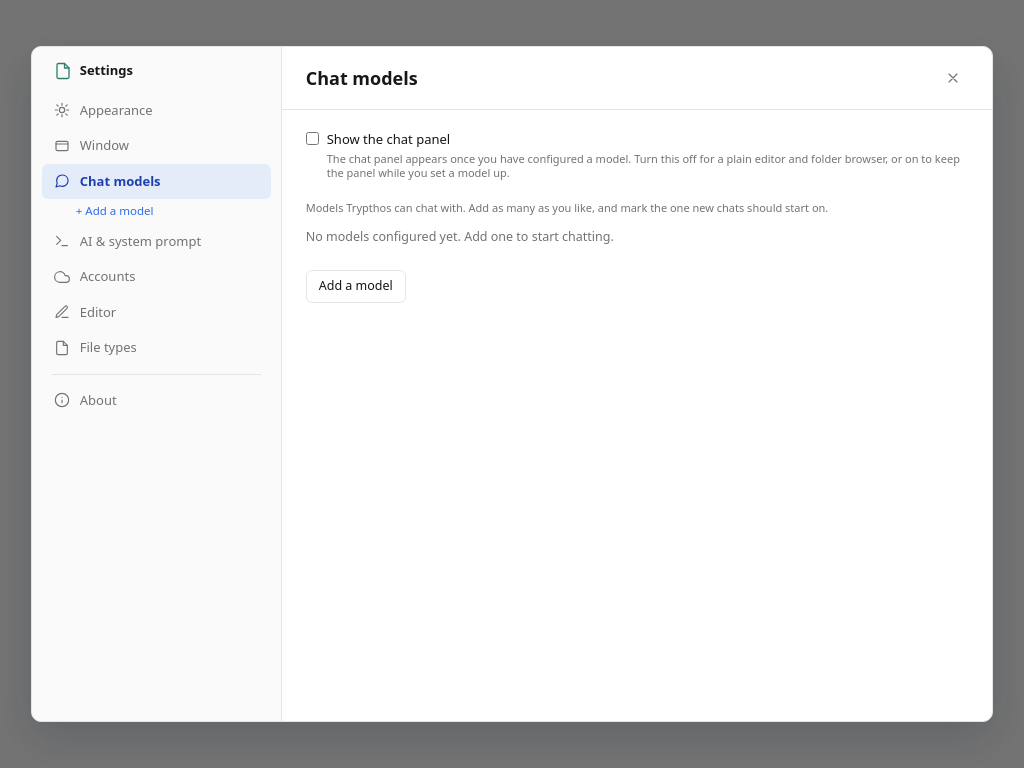
Scenario: thinking on a model › is off, with a level already chosen for when it is turned on
Step 1. Click the button "Add a model" → (356, 287), box [306,270,406,303]
(page scrolled)
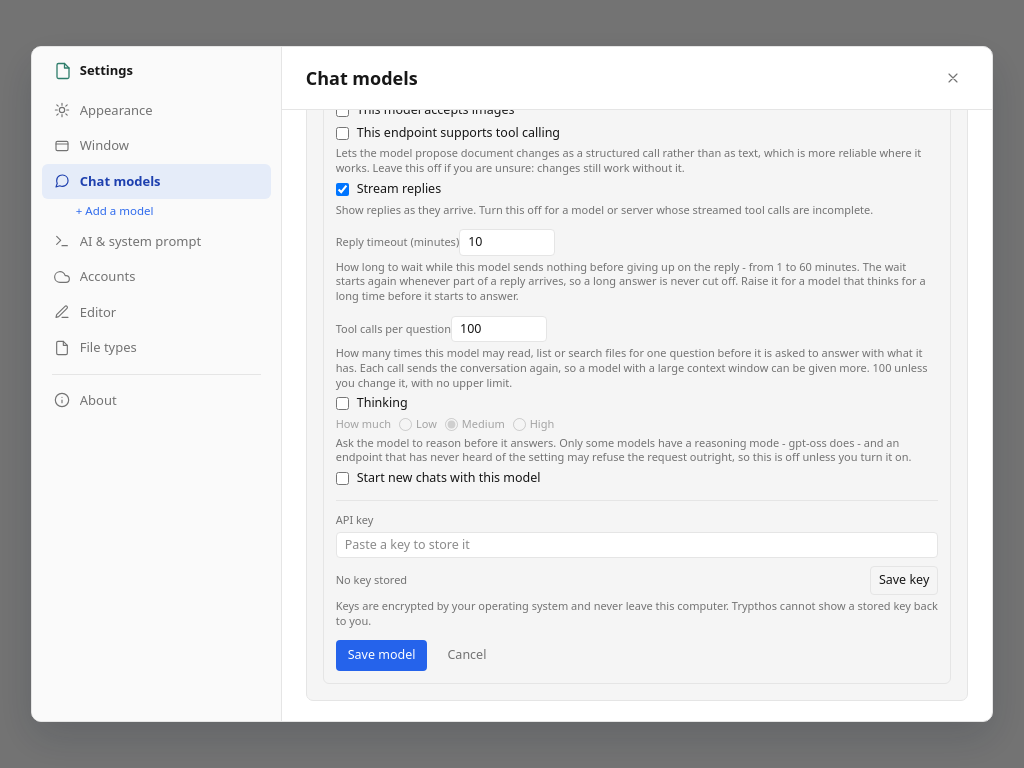
Check: the checkbox labelled "Thinking" is not checked, box [336,397,349,410]
Check: the radio button labelled "Medium" is checked, box [445,418,458,431]
